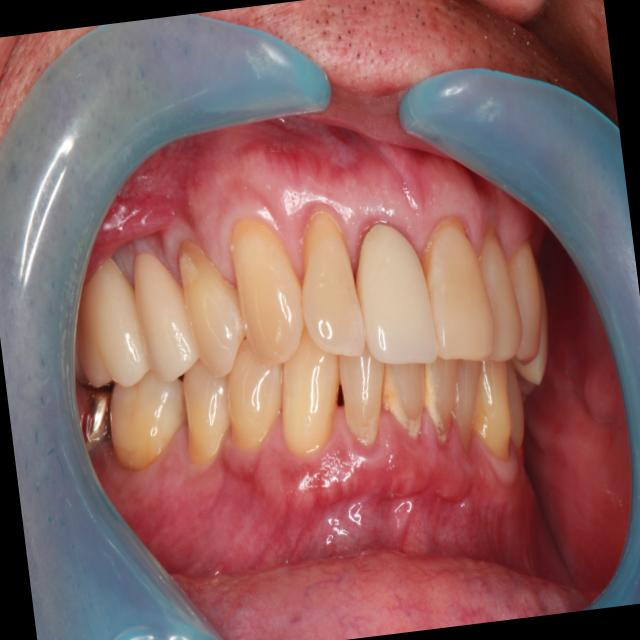tooth: (344, 201, 447, 383), (282, 194, 379, 373), (407, 202, 504, 374), (55, 244, 162, 398), (221, 203, 314, 376), (168, 224, 258, 389), (96, 343, 202, 479), (265, 314, 356, 463), (122, 236, 211, 387), (212, 319, 297, 459), (463, 214, 533, 375), (172, 340, 242, 472), (490, 226, 554, 370), (457, 340, 525, 468), (331, 333, 400, 458), (372, 337, 440, 451), (511, 244, 562, 392), (440, 340, 498, 464), (411, 340, 472, 456), (65, 366, 130, 467), (495, 351, 532, 461)
